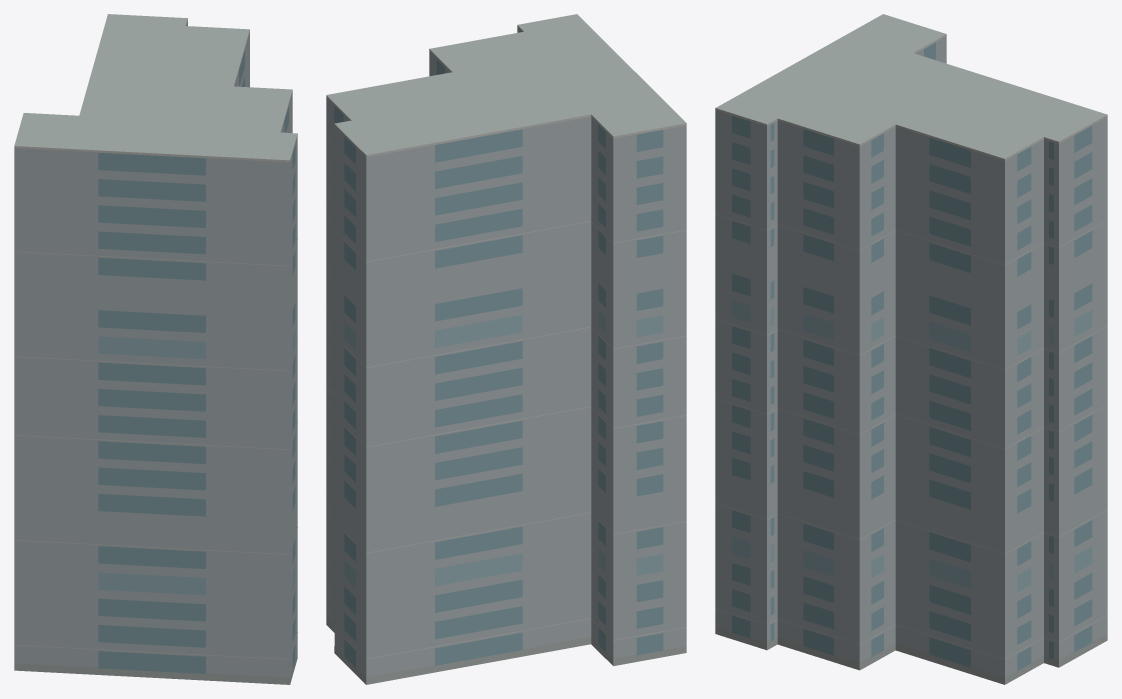
The model's file is survey-upis-32916771.glb.
The picture shows the model from 3 angles, left to right: view 1: azimuth 30°, elevation 25°; view 2: azimuth 150°, elevation 25°; view 3: azimuth 270°, elevation 25°; orthographic projection.
Visible parts, largest first — view 1: survey-upis-32916771.tmp; view 2: survey-upis-32916771.tmp; view 3: survey-upis-32916771.tmp.
Part boxes in pixels (left/top/right/bottom): survey-upis-32916771.tmp: left=14, top=14, right=297, bottom=684; survey-upis-32916771.tmp: left=326, top=14, right=686, bottom=684; survey-upis-32916771.tmp: left=715, top=14, right=1107, bottom=684.
Size of the model in its own units: 36.08 by 61 by 41.23.
